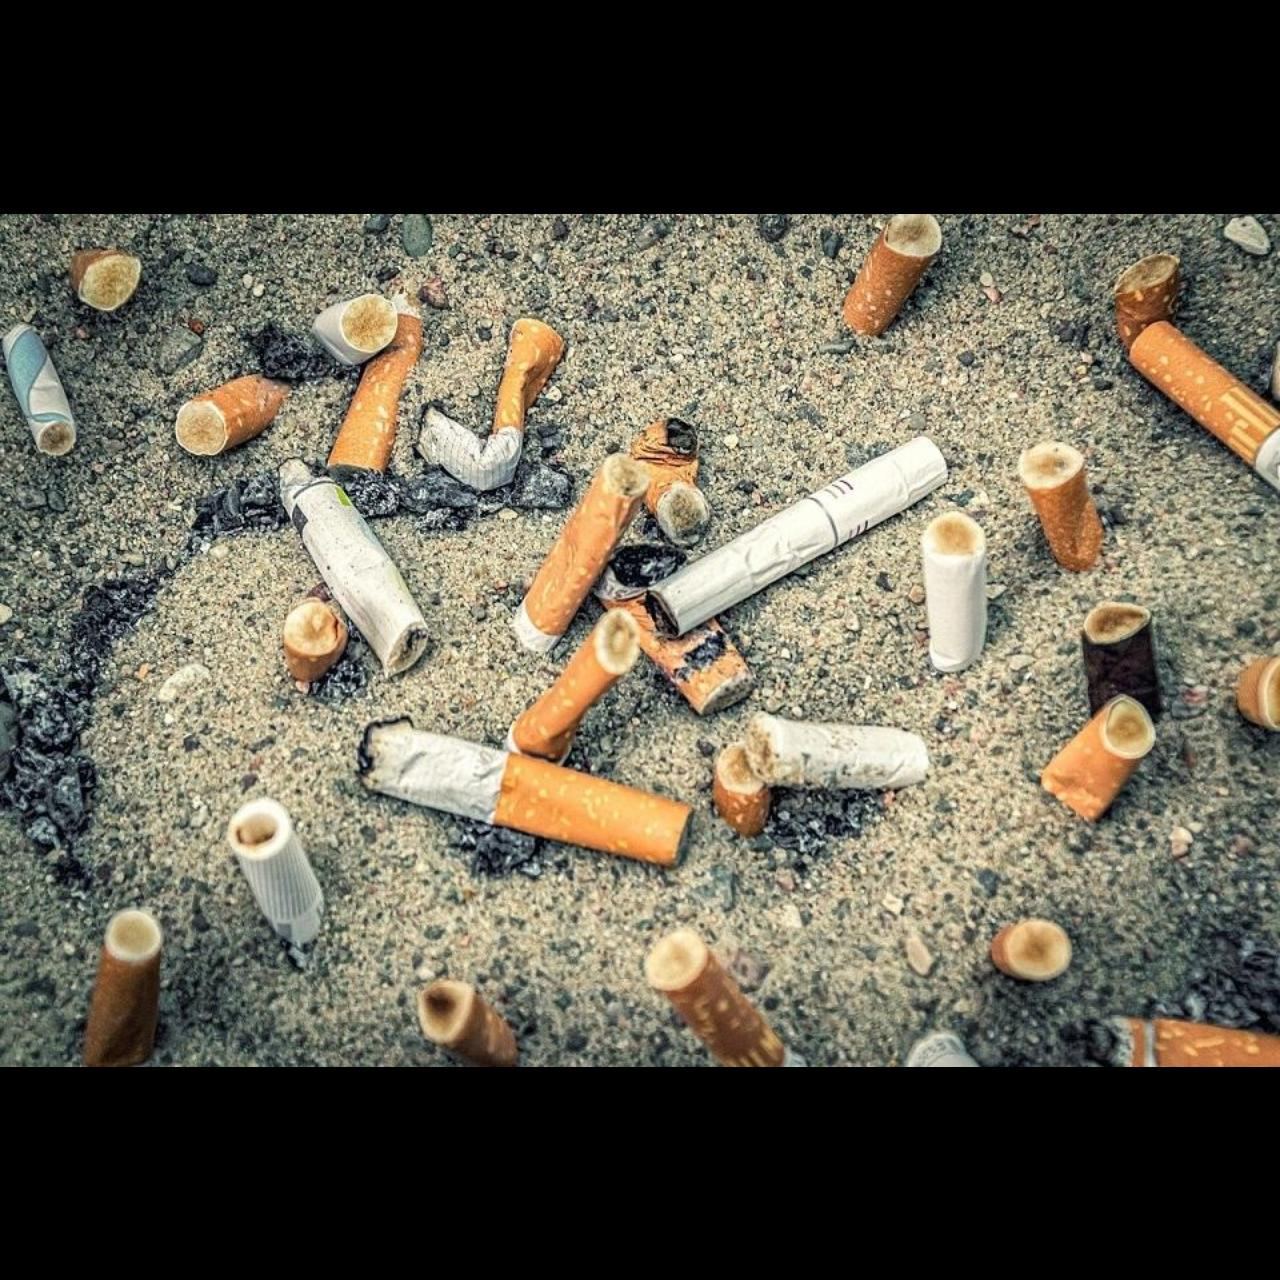cigarettes_butts: (642, 436, 948, 639), (356, 719, 695, 867), (280, 458, 429, 679), (512, 455, 649, 653), (595, 545, 754, 716), (1129, 320, 1280, 491), (416, 319, 564, 491), (646, 933, 806, 1067), (506, 607, 641, 765), (328, 292, 423, 474), (229, 797, 324, 955), (1041, 694, 1156, 821), (745, 713, 930, 789), (81, 908, 163, 1067), (843, 213, 942, 338), (1020, 441, 1104, 571), (922, 510, 987, 673), (629, 417, 709, 549), (1080, 601, 1162, 723), (4, 321, 77, 456), (173, 373, 291, 456), (1088, 1017, 1280, 1067), (417, 975, 518, 1067), (1115, 254, 1180, 353), (311, 293, 397, 365), (989, 915, 1075, 982), (281, 597, 348, 680), (714, 747, 772, 838), (69, 248, 142, 311), (1234, 653, 1280, 730), (905, 1027, 982, 1067)
